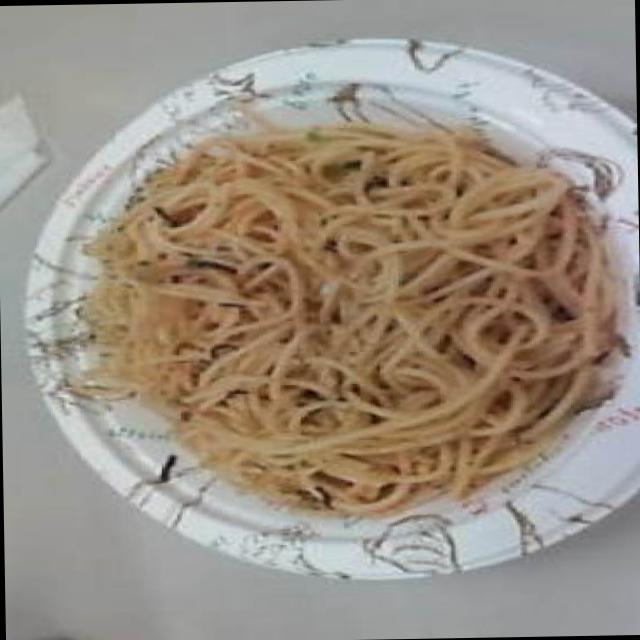Pasta: (106, 132, 584, 505)
